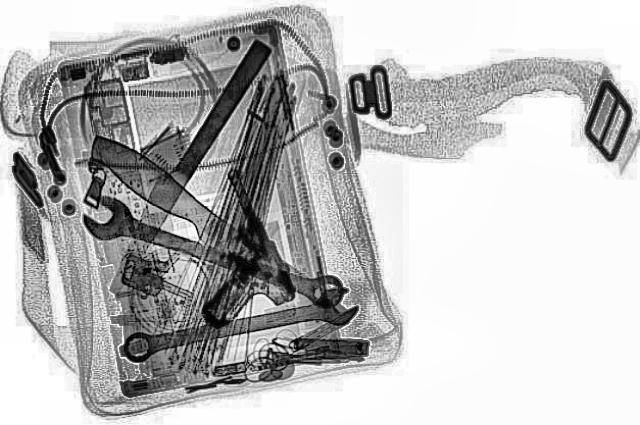Gun: (130, 165, 312, 327)
Knife: (95, 36, 273, 292), (71, 128, 323, 306)
Wrench: (65, 192, 358, 314), (111, 283, 367, 369)
